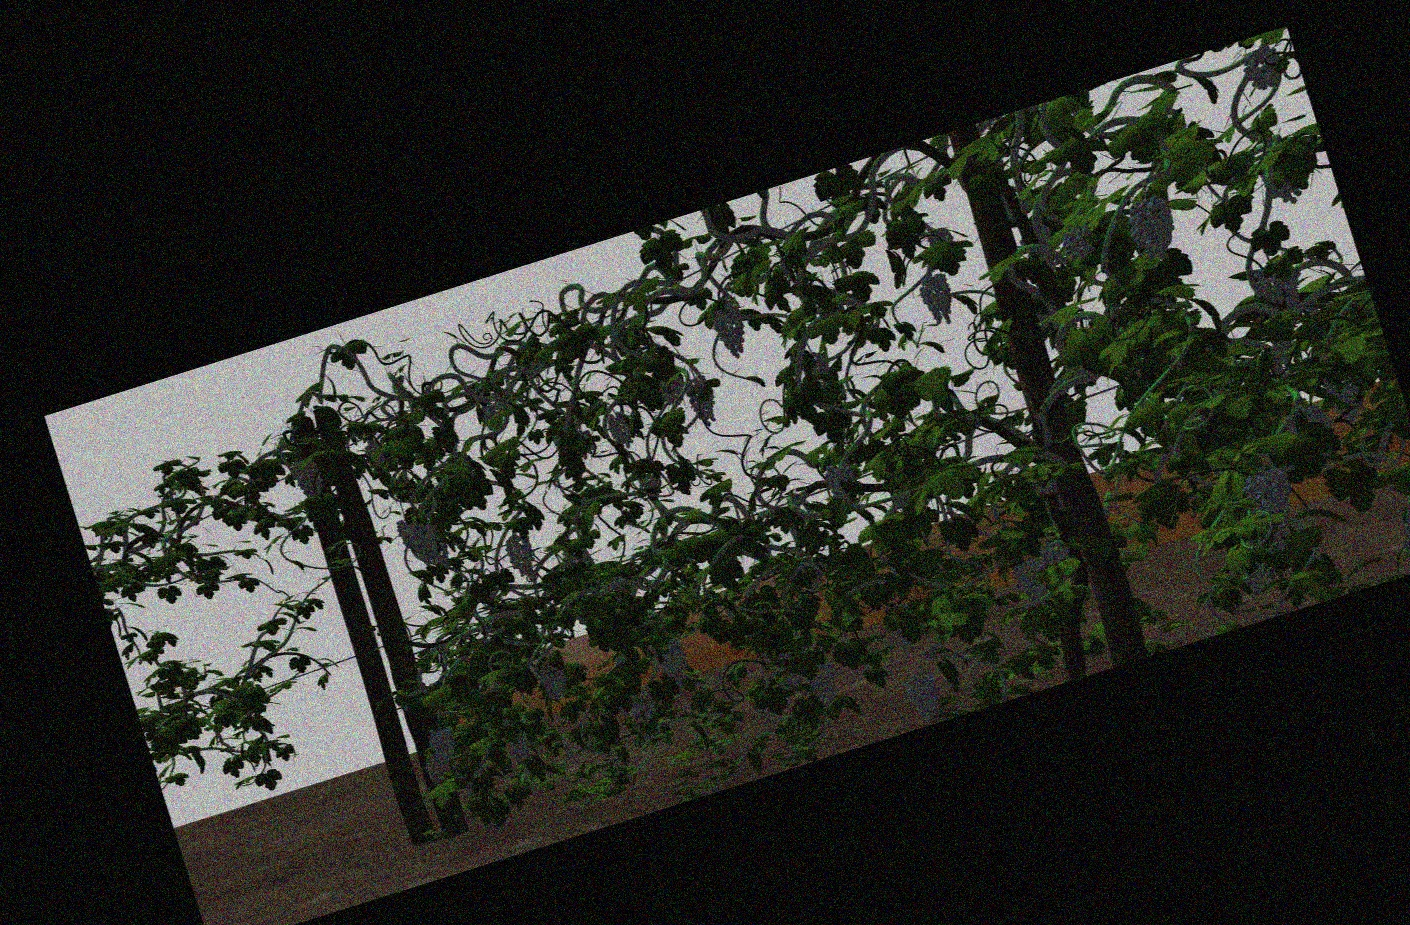grape: (1251, 467, 1296, 548), (1130, 199, 1175, 260), (923, 273, 954, 325), (1244, 47, 1283, 89), (715, 305, 745, 358), (1016, 559, 1047, 607), (909, 672, 941, 719), (688, 377, 717, 426), (810, 661, 838, 709), (663, 641, 688, 688), (410, 520, 437, 565), (506, 533, 533, 576), (826, 462, 856, 501), (541, 660, 567, 701), (294, 459, 322, 497), (1256, 268, 1282, 306), (1062, 227, 1094, 255), (1039, 538, 1069, 567), (610, 411, 632, 448), (430, 728, 454, 758), (661, 375, 684, 403), (510, 736, 533, 765), (426, 757, 451, 782), (631, 700, 655, 724)
